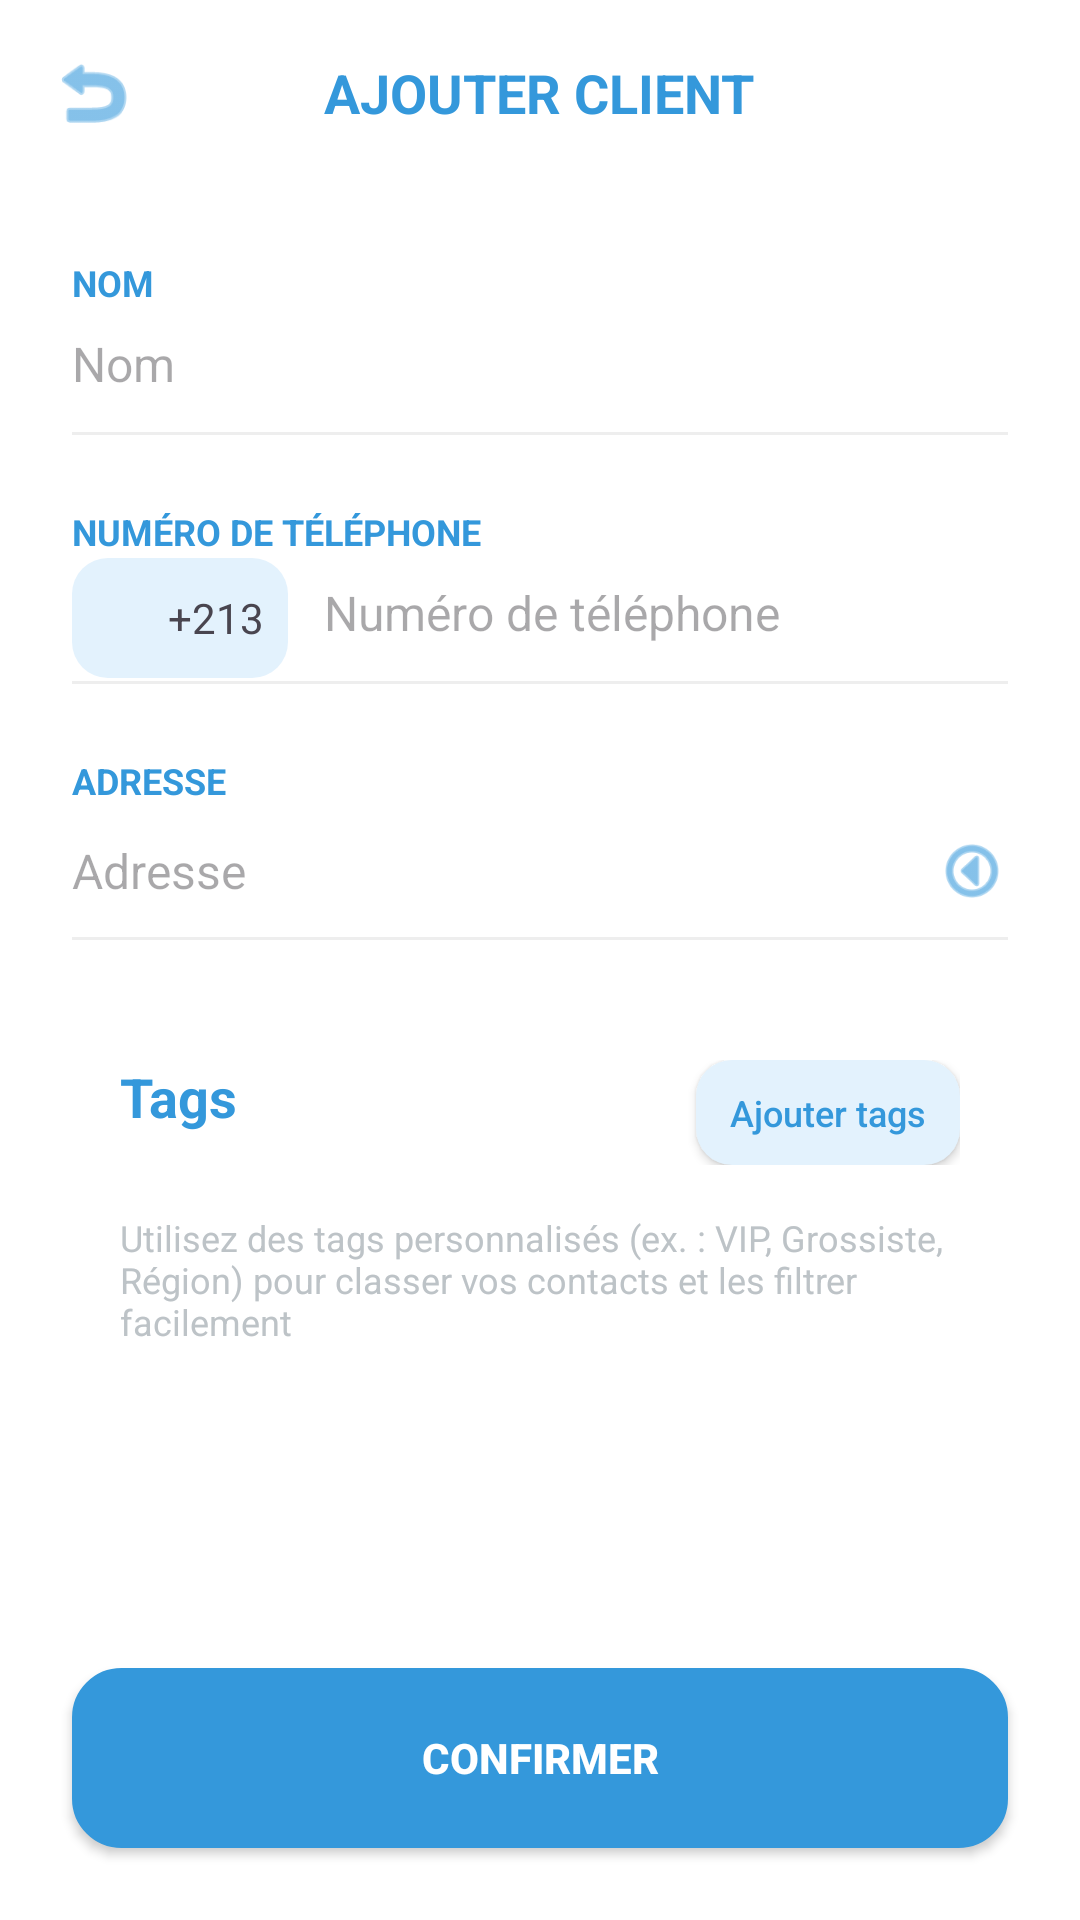

Icon click points for this 1080*1920 phone screenshot, format (x,y):
revert: (94,93)
